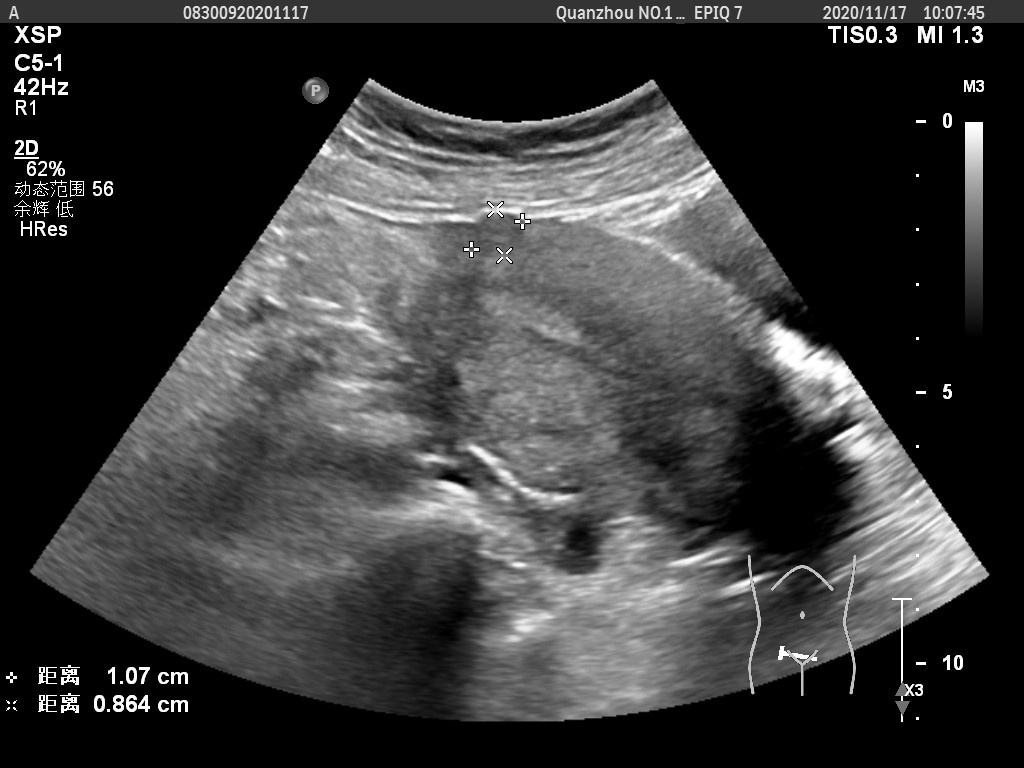肌瘤: (473, 210, 524, 252)
